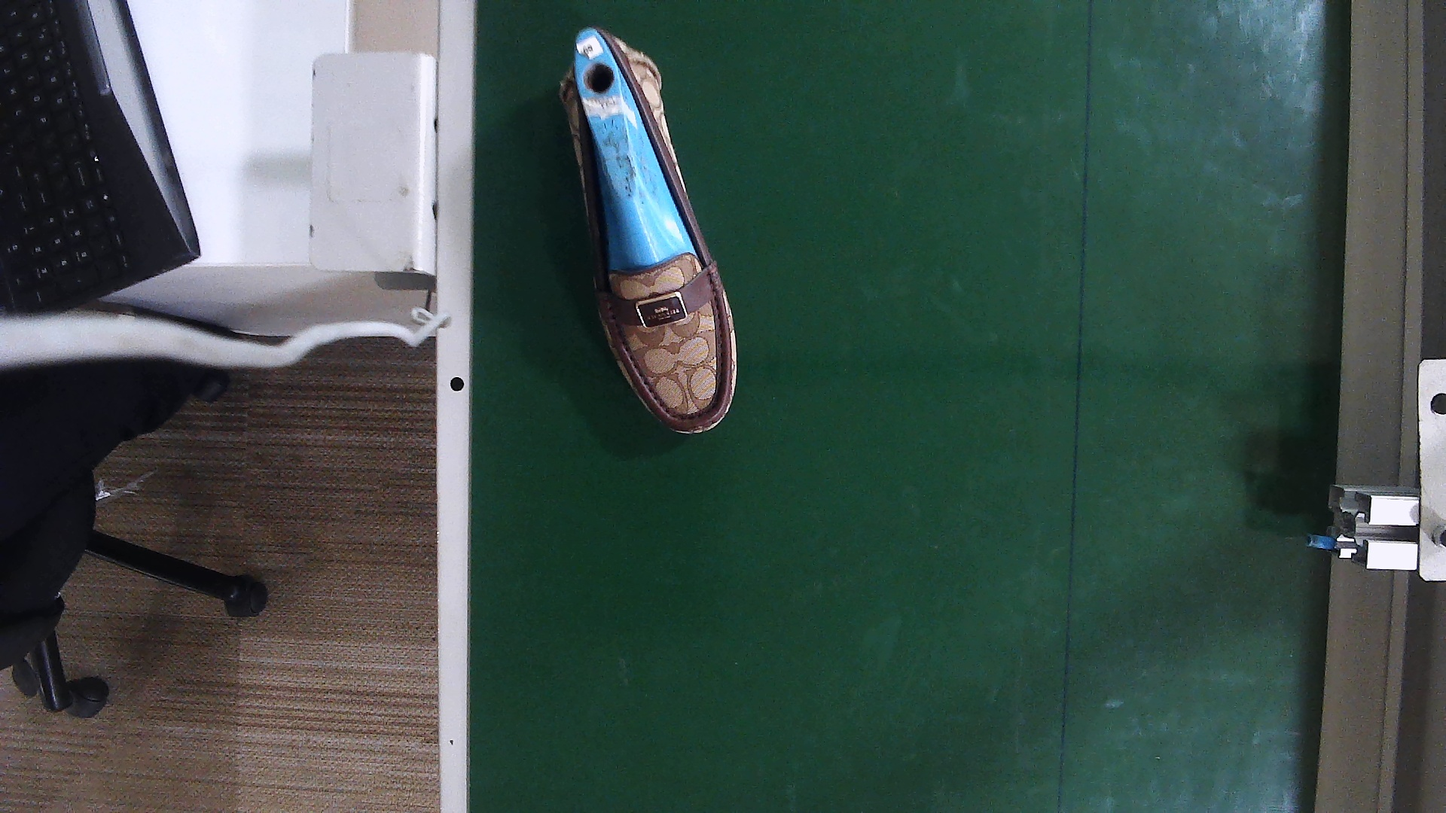shoe: (563, 30, 734, 434)
